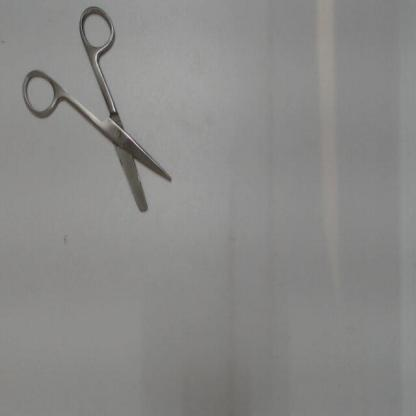Dressing Scissors: (16, 3, 178, 227)
